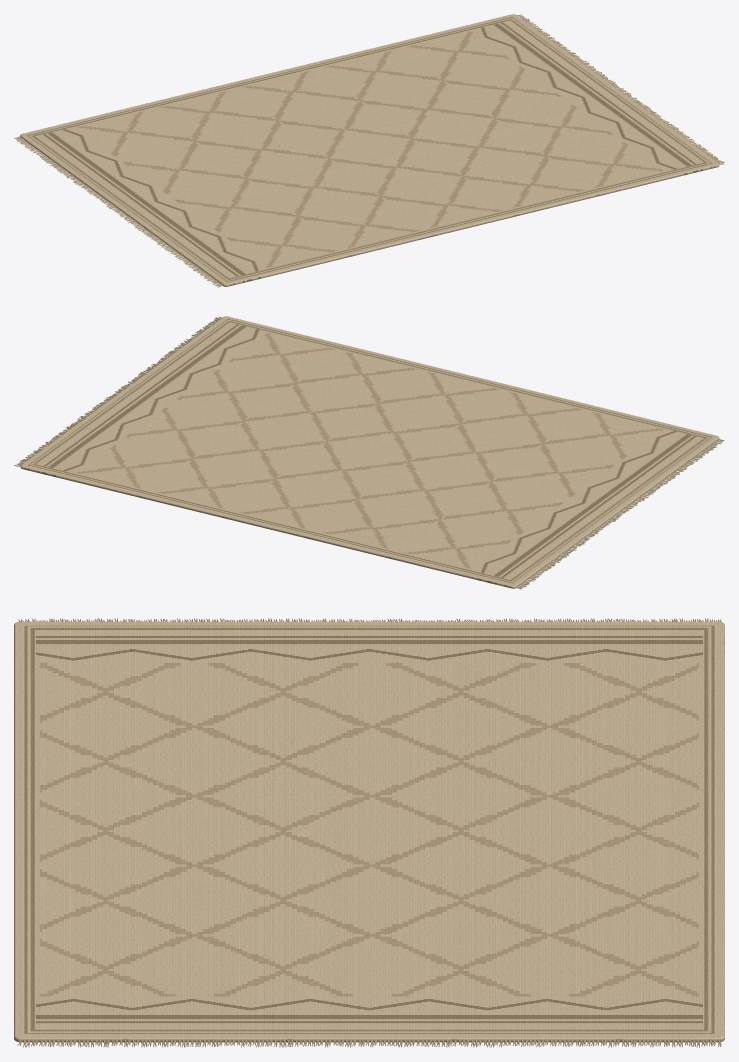
3 views of the same model, one above another, from view 1: azimuth 30°, elevation 25°; view 2: azimuth 150°, elevation 25°; view 3: azimuth 270°, elevation 25° (orthographic). The views are drawn at different scales.
Visible parts, largest first — view 1: sample-rug; view 2: sample-rug; view 3: sample-rug.
Boxes of the visible parts, x1=… form: sample-rug: x1=14, y1=14, x2=724, y2=287; sample-rug: x1=14, y1=316, x2=724, y2=589; sample-rug: x1=14, y1=618, x2=724, y2=1047.
Bounding box in the file's own units: 2.57 × 0.012 × 1.8.
2 materials, 1 textured.
